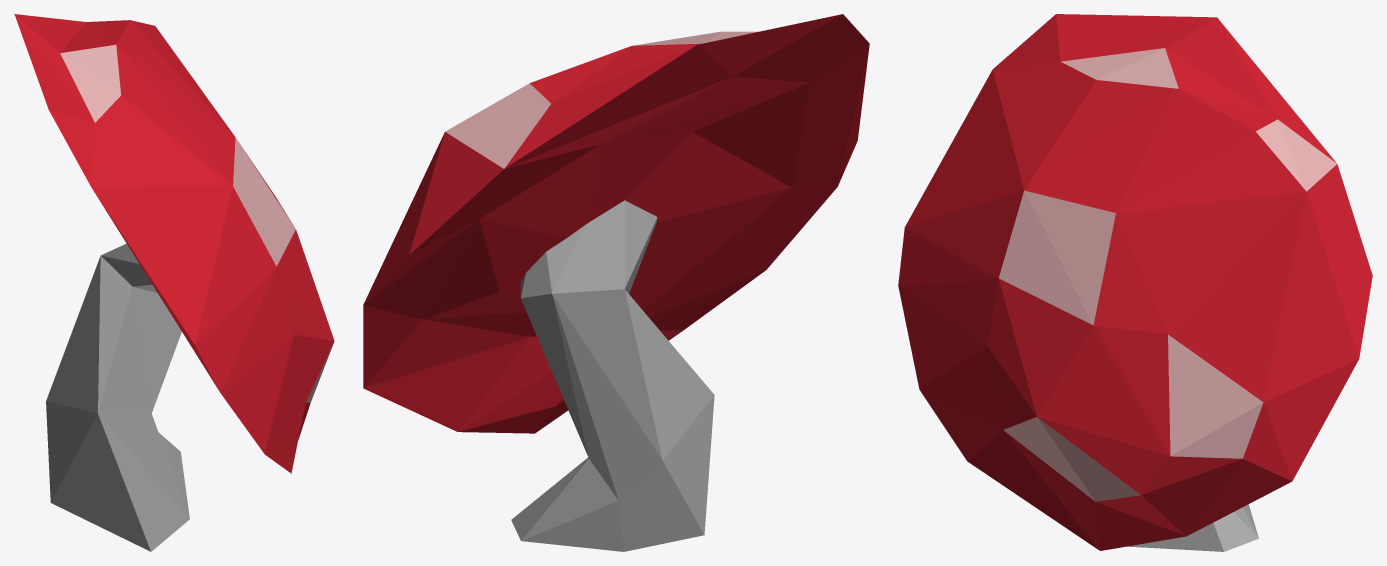
The model's file is mushroom_01.fbx.
3 views of the same model, side by side, from view 1: azimuth 30°, elevation 25°; view 2: azimuth 150°, elevation 25°; view 3: azimuth 270°, elevation 25° (orthographic). The views are drawn at different scales.
Visible parts, largest first — view 1: mushroomPM3D_Sphere3D_5, mushroomPM3D_Cylinder3D2; view 2: mushroomPM3D_Sphere3D_5, mushroomPM3D_Cylinder3D2; view 3: mushroomPM3D_Sphere3D_5, mushroomPM3D_Cylinder3D2.
Part boxes in pixels (left/top/right/bottom): mushroomPM3D_Sphere3D_5: left=14, top=14, right=334, bottom=473; mushroomPM3D_Cylinder3D2: left=46, top=243, right=189, bottom=551; mushroomPM3D_Sphere3D_5: left=363, top=14, right=869, bottom=433; mushroomPM3D_Cylinder3D2: left=511, top=200, right=714, bottom=551; mushroomPM3D_Sphere3D_5: left=898, top=14, right=1372, bottom=550; mushroomPM3D_Cylinder3D2: left=1127, top=504, right=1258, bottom=551.
Size of the model in its own units: 153 by 227 by 204.
